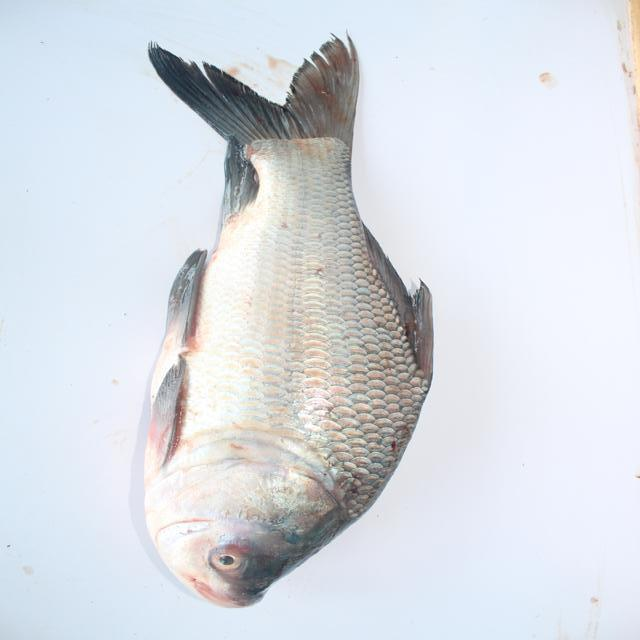Grass Carp: (144, 8, 432, 616)
